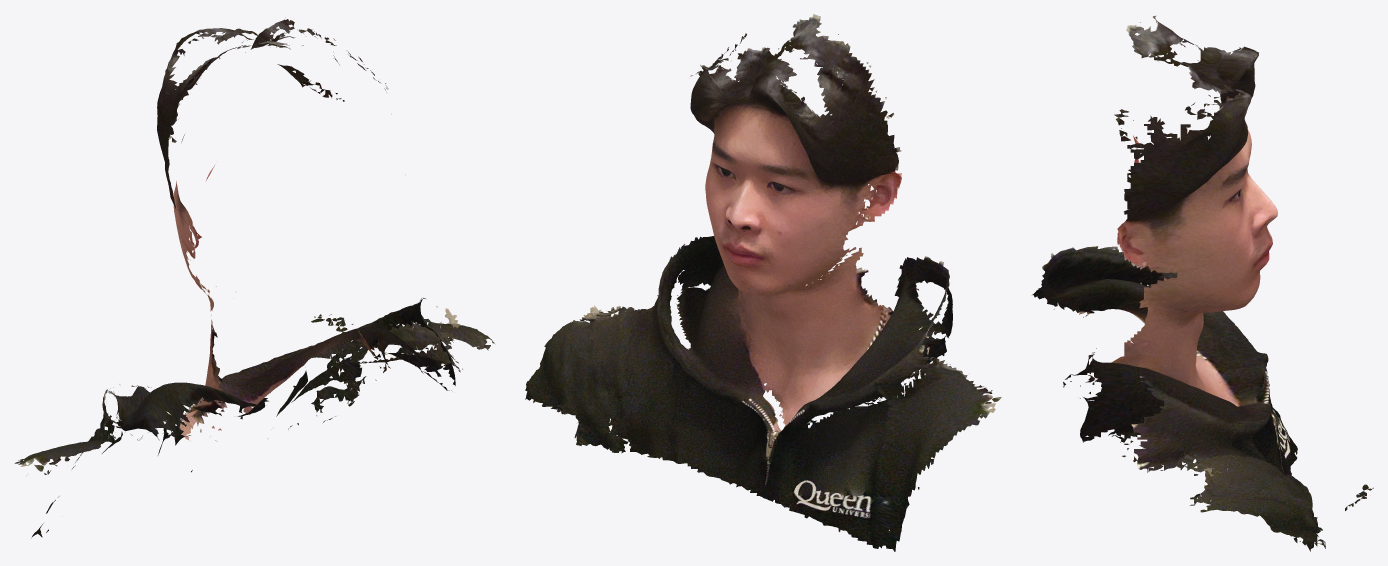
Rendered from faceScan2.glb.
The picture shows the model from 3 angles, left to right: view 1: azimuth 30°, elevation 25°; view 2: azimuth 150°, elevation 25°; view 3: azimuth 270°, elevation 25°; orthographic projection. The views are drawn at different scales.
Bounding box in the file's own units: 0.457 × 0.4744 × 0.2986.
Materials: 1 (1 with a texture image).
